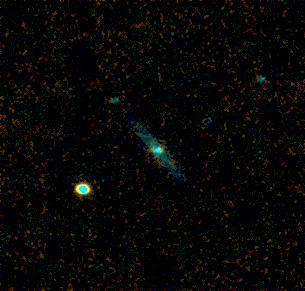star: (96, 84, 126, 114)
